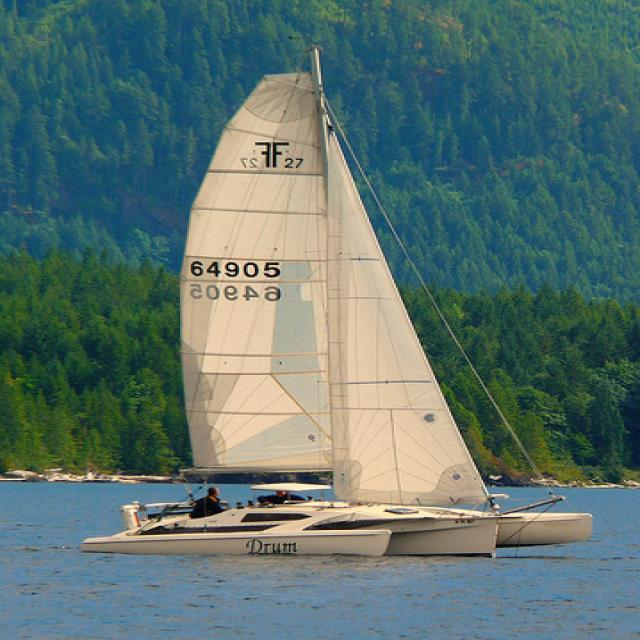Ship: (89, 58, 591, 569)
